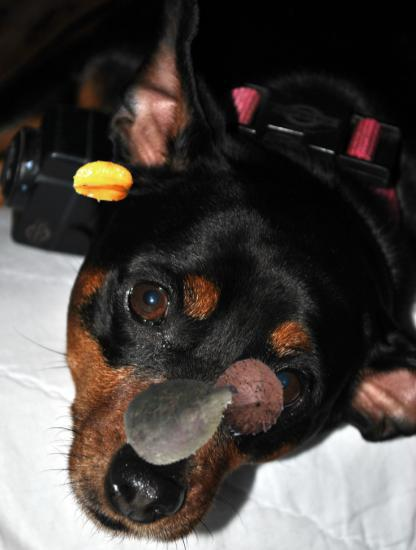Beetroot: (117, 352, 243, 478)
Carambula: (73, 152, 134, 213)
Cocos: (208, 356, 290, 438)
